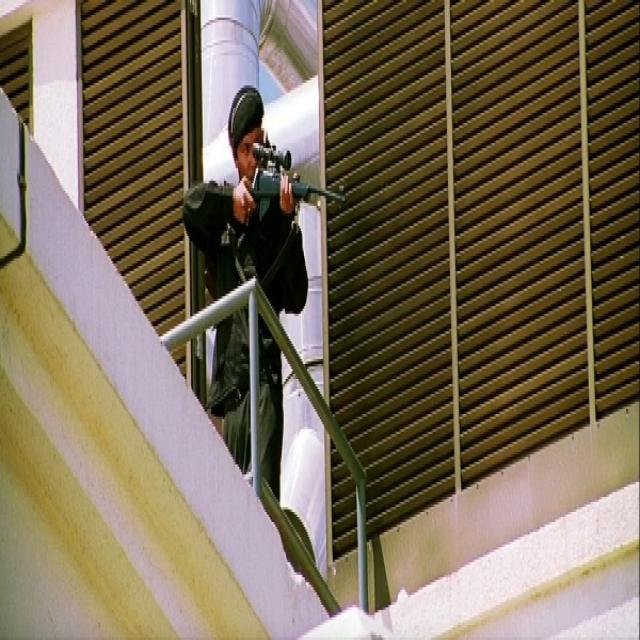rifle: (246, 139, 350, 231)
